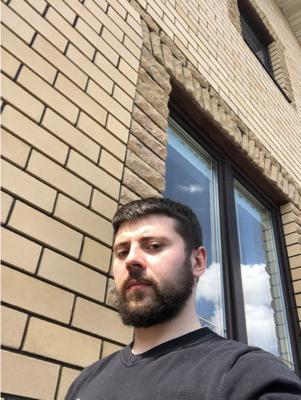without_mask: (111, 227, 178, 328)
